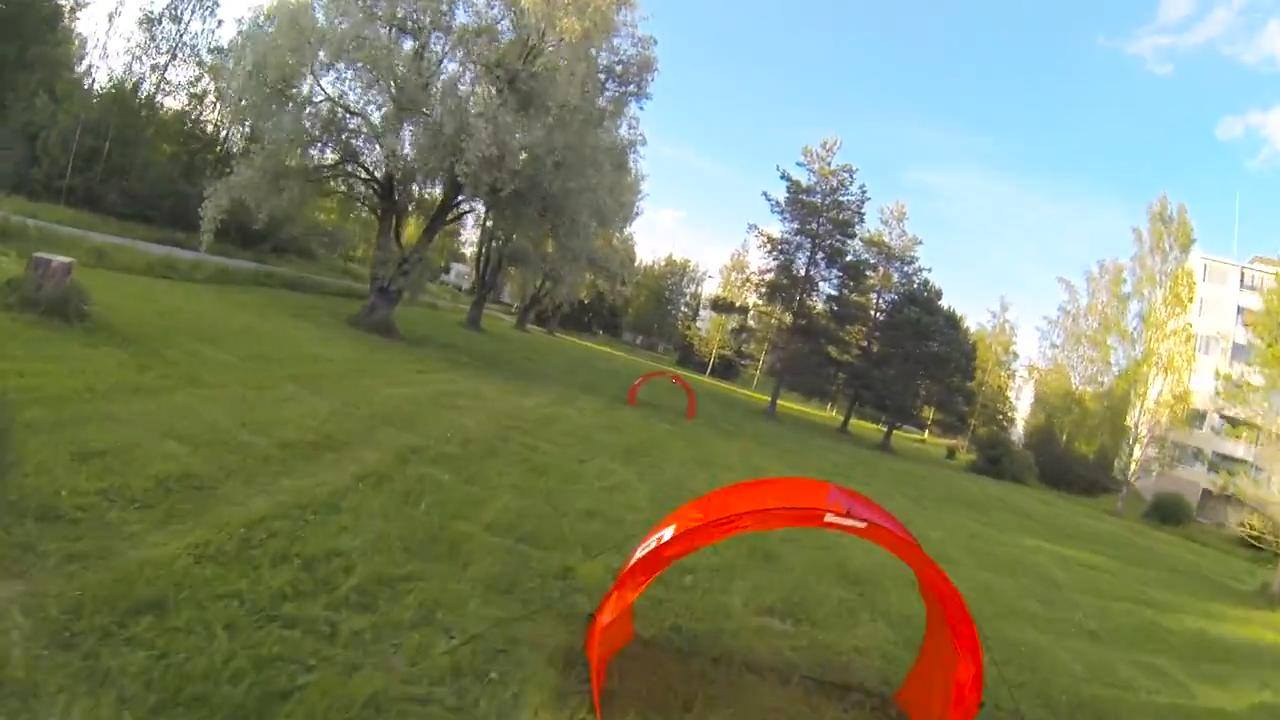gate: (579, 467, 981, 720)
